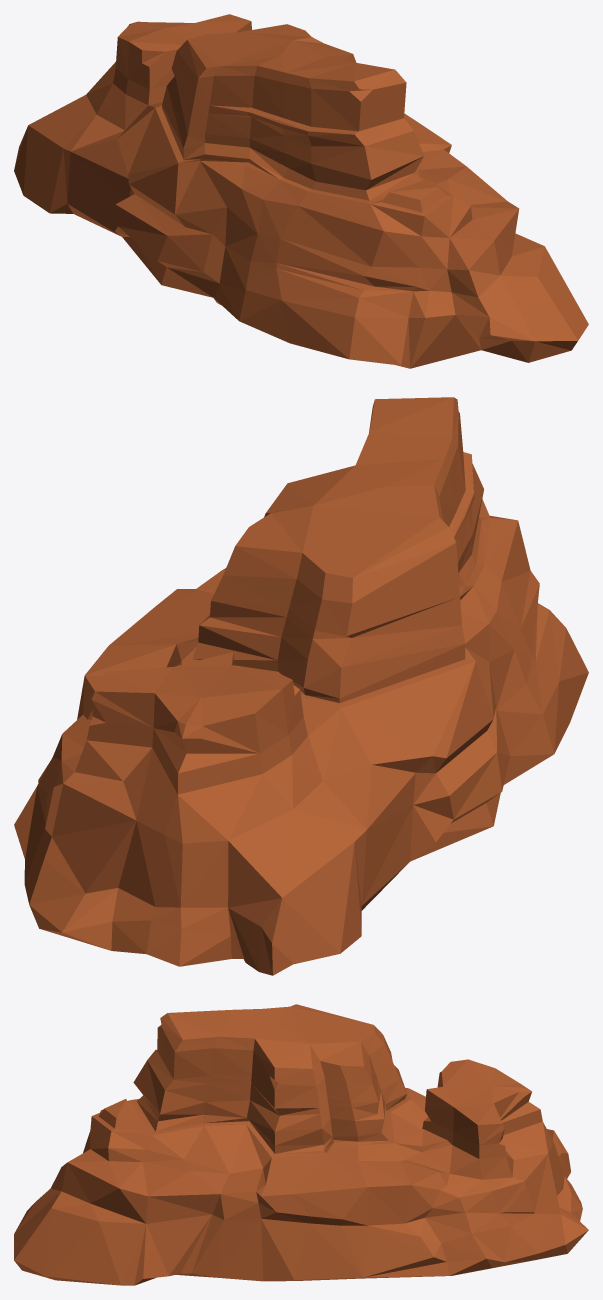
File: model_rock_conyon01.fbx
3 views of the same model, one above another, from view 1: azimuth 30°, elevation 25°; view 2: azimuth 150°, elevation 25°; view 3: azimuth 270°, elevation 25° (orthographic). The views are drawn at different scales.
Visible parts, largest first — view 1: model_rock_conyon01; view 2: model_rock_conyon01; view 3: model_rock_conyon01.
Boxes of the visible parts, x1,y1,x2,y2 form: model_rock_conyon01: [14, 14, 588, 368]; model_rock_conyon01: [14, 397, 588, 975]; model_rock_conyon01: [14, 1004, 588, 1285].
Size of the model in its own units: 696 by 566 by 1389.
1 material, 1 textured.
